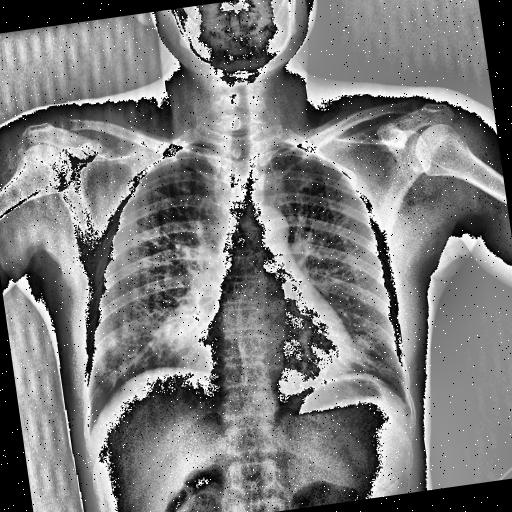4- Consolidation: (144, 284, 220, 368), (138, 288, 220, 359)
7- Lung Opacity: (336, 278, 396, 378)
8- Nodule-Mass: (146, 291, 222, 358), (112, 308, 120, 314)
